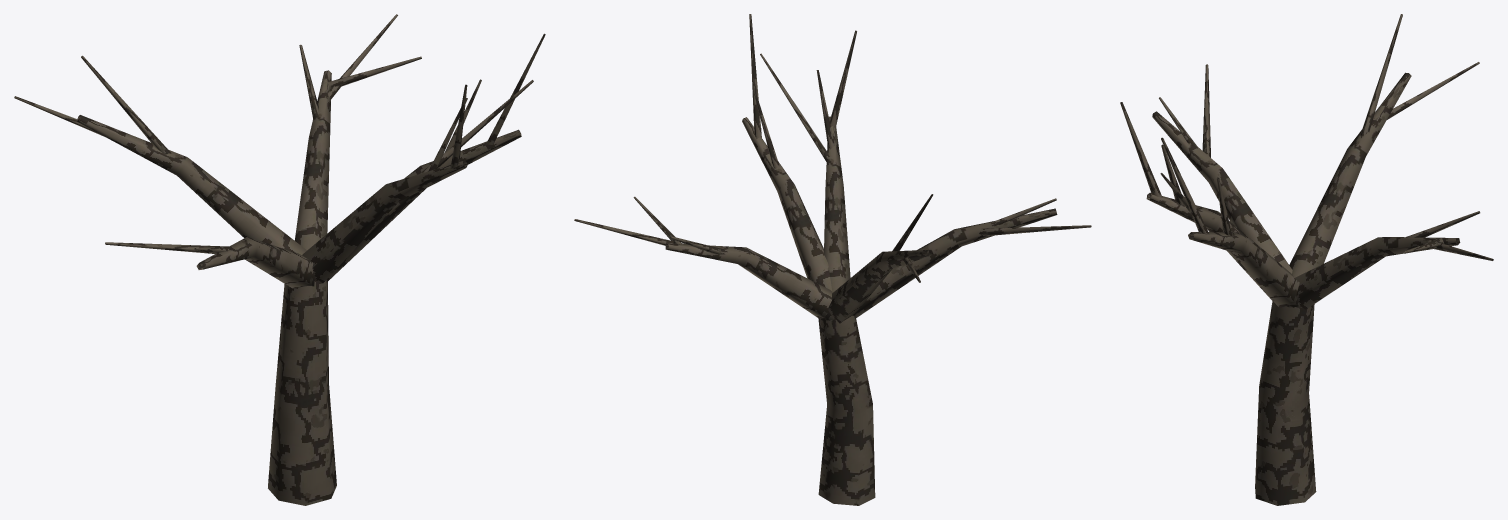
The model's file is dead1_none_lod0.fbx.
3 renders of one model, left to right at view 1: azimuth 30°, elevation 25°; view 2: azimuth 150°, elevation 25°; view 3: azimuth 270°, elevation 25°, orthographic. The views are drawn at different scales.
Visible parts, largest first — view 1: dead1_none_lod0; view 2: dead1_none_lod0; view 3: dead1_none_lod0.
Boxes of the visible parts, x1=… form: dead1_none_lod0: x1=14, y1=14, x2=545, y2=505; dead1_none_lod0: x1=574, y1=14, x2=1091, y2=505; dead1_none_lod0: x1=1120, y1=14, x2=1493, y2=505.
Bounding box in the file's own units: 7.49 × 7.45 × 5.78.
1 material, 1 textured.
